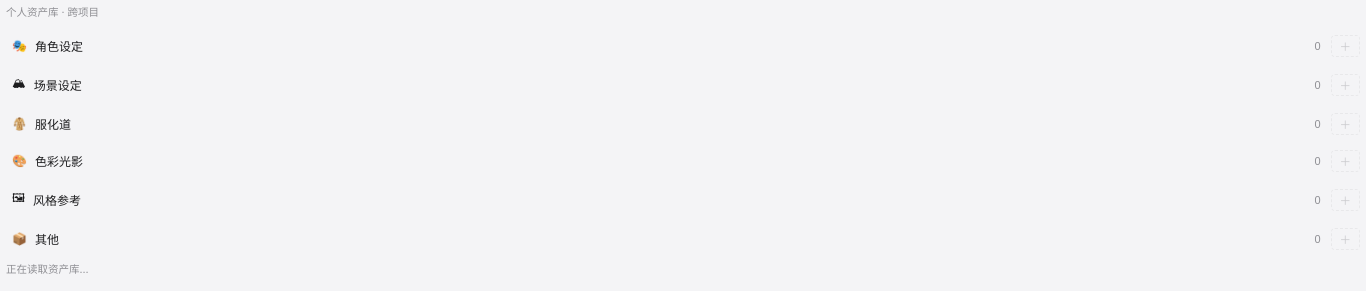
Test: AssetsPanel 类别内操作 › 缩略懒加载：进入视口后取媒体 URL 渲染 img
Click the text "角色设定" at (59,46), box [35,37,83,54]
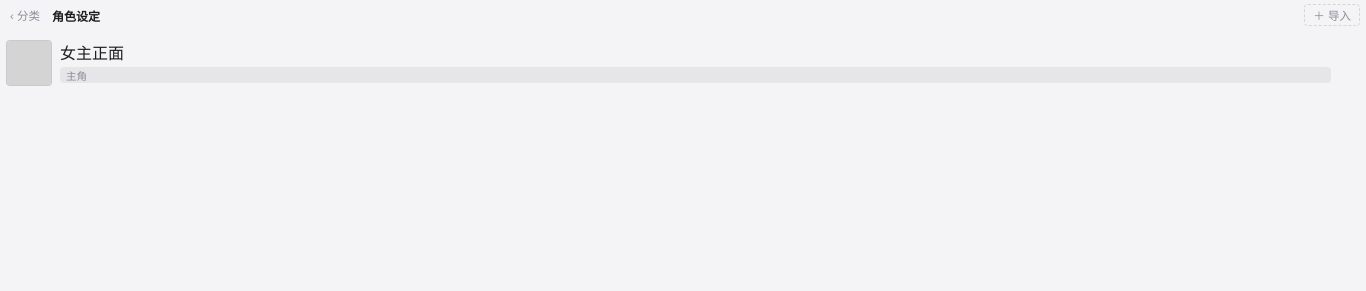
Expected: the button "女主正面" is shown, [60,40,1331,64]
